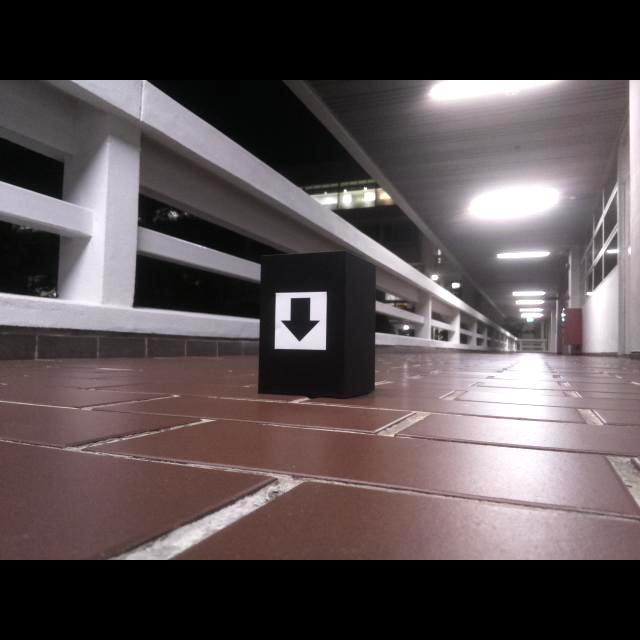DOWN: (280, 297, 321, 343)
